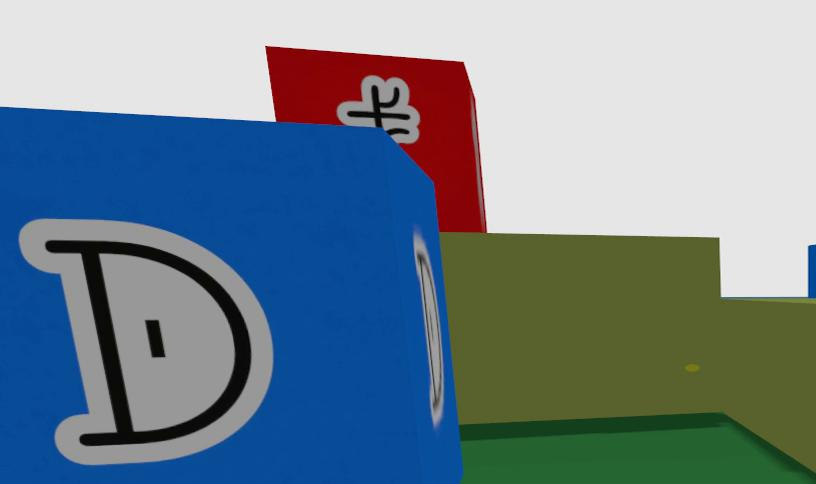KFS_FAKE: (265, 46, 485, 231), (336, 76, 419, 143)
KFS_REAL: (0, 108, 461, 484), (19, 219, 272, 464), (414, 230, 444, 424), (809, 245, 816, 297)
